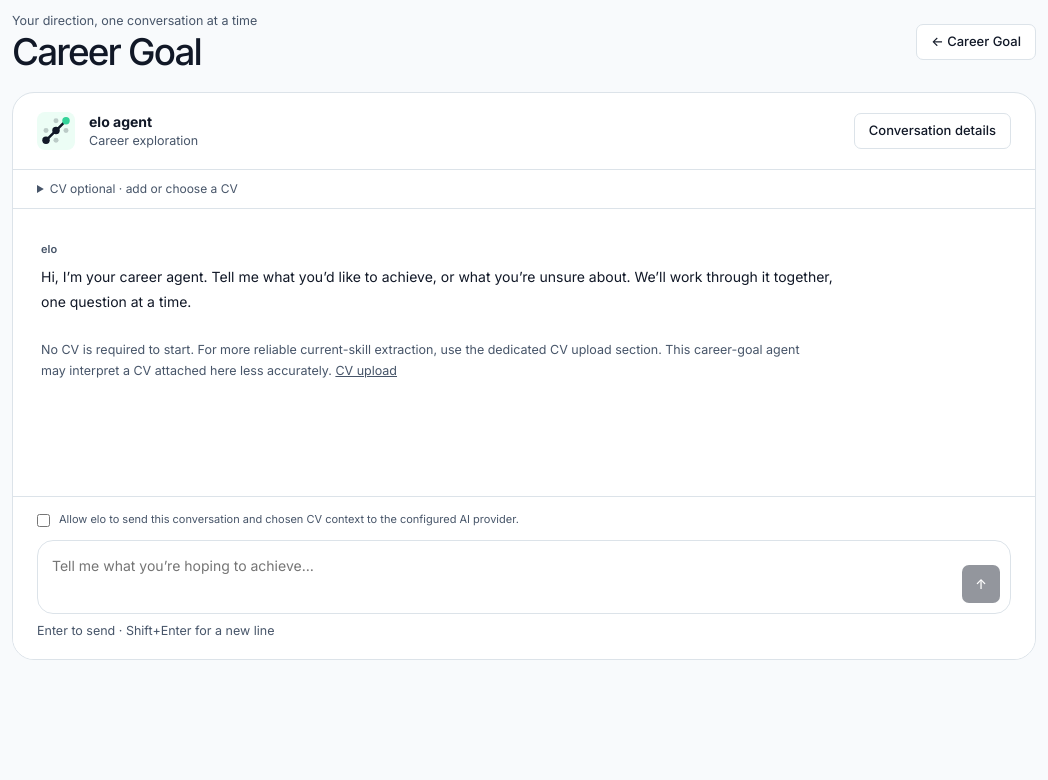
Test case: single career conversation › starts separate exploration without a session chooser or goal confirmation
Expected: the text "Hi, I’m your career agent" is shown, [41, 268, 837, 310]
Click the checkbox labelled "Allow elo" at (44, 520), box [37, 513, 50, 528]
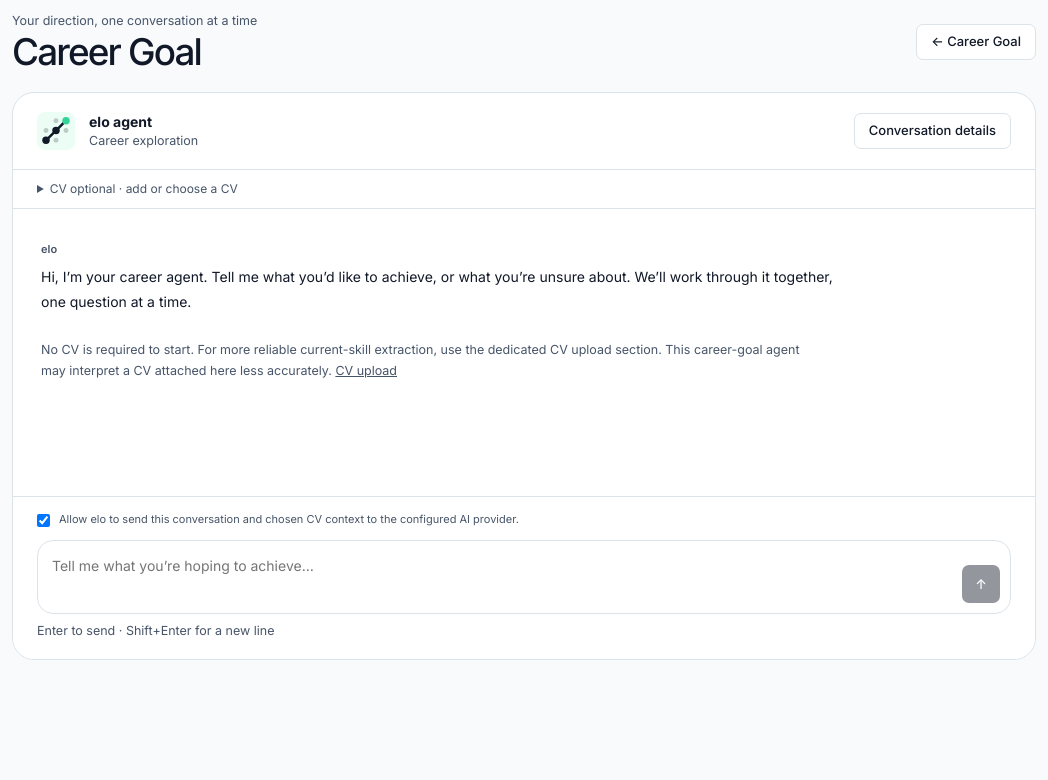
Type "I enjoy data" into the text box named "Message elo" at (500, 577), box [48, 550, 952, 603]
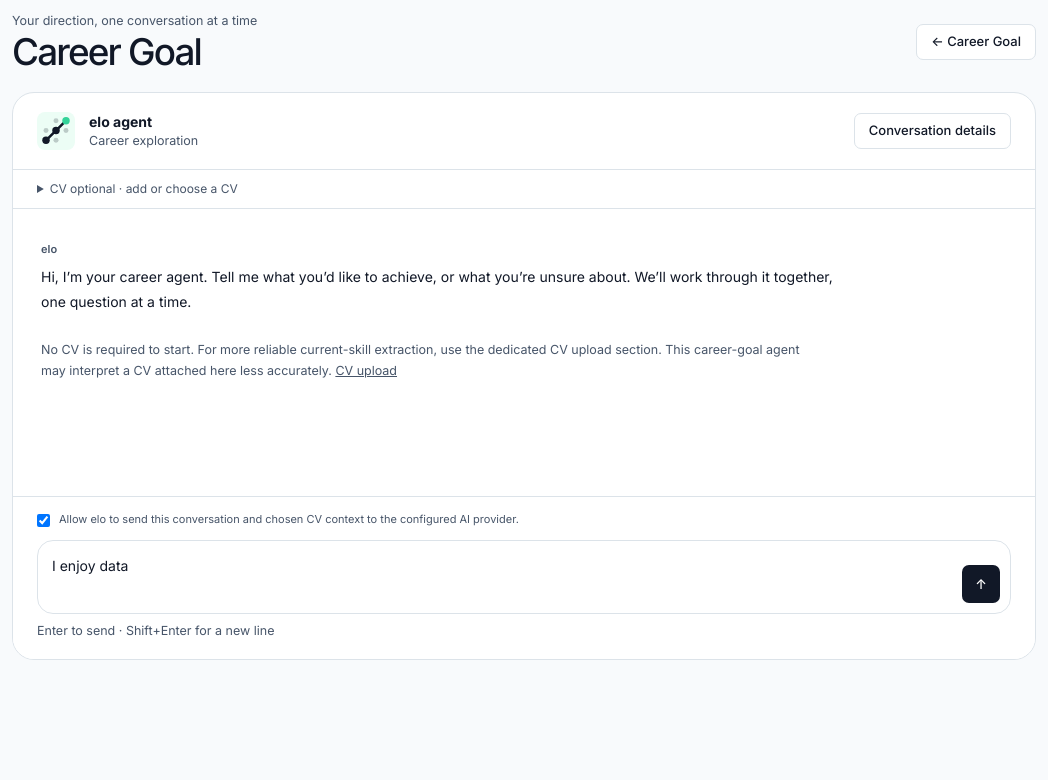
Result: the button named "Send message" is enabled
Click the button named "Send message" at (981, 584), box [962, 565, 1000, 603]
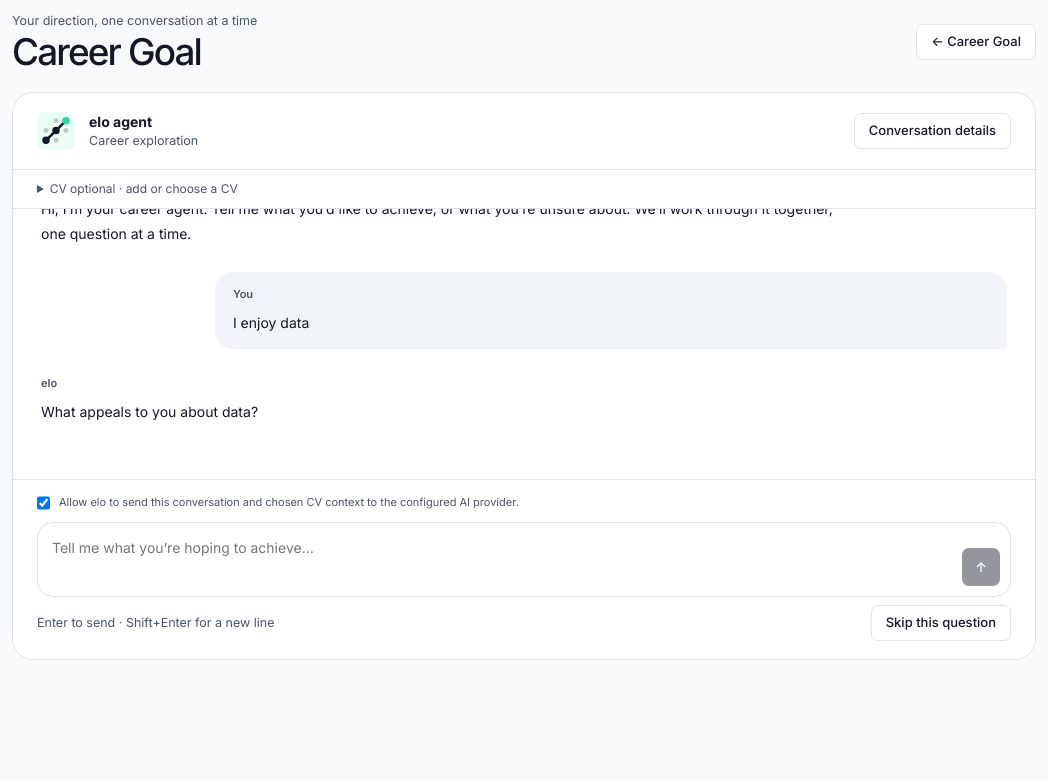
Result: the text "What appeals to you about data?" is shown at [41, 403, 258, 420]
